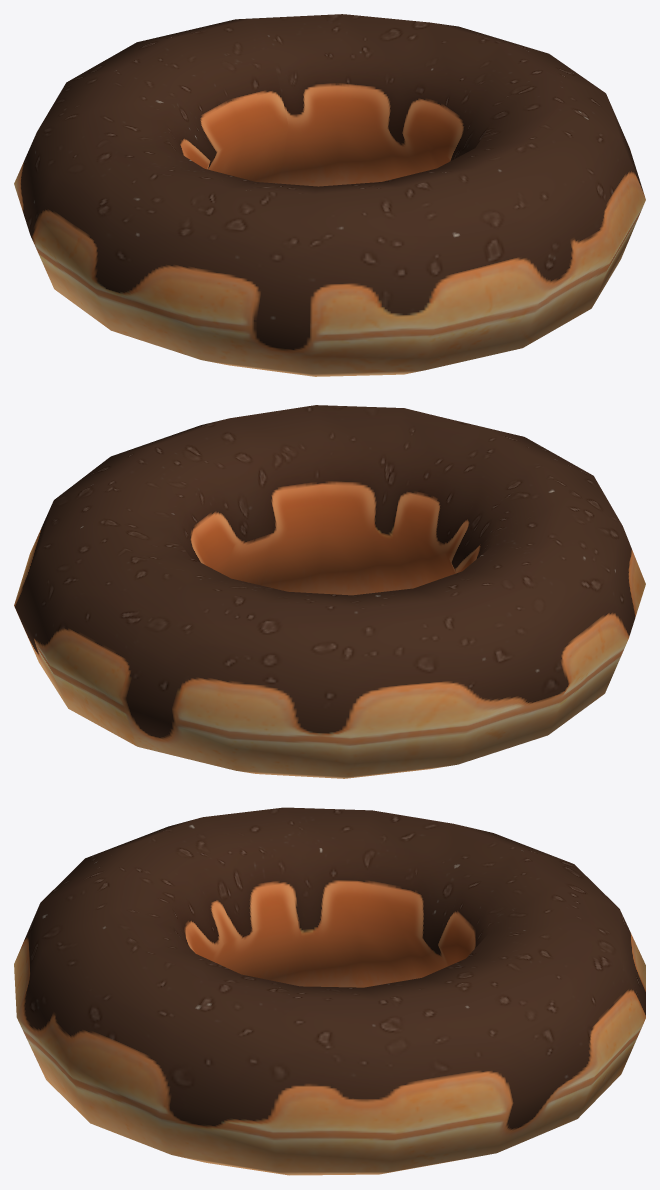
The model's file is BuffetDesserts02_8.FBX.
3 views of the same model, one above another, from view 1: azimuth 30°, elevation 25°; view 2: azimuth 150°, elevation 25°; view 3: azimuth 270°, elevation 25° (orthographic).
Parts seen in each view (by area): view 1: BuffetDesserts02_8; view 2: BuffetDesserts02_8; view 3: BuffetDesserts02_8.
Boxes of the visible parts, x1,y1,x2,y2 form: BuffetDesserts02_8: (14,14,645,376); BuffetDesserts02_8: (14,405,645,778); BuffetDesserts02_8: (14,807,645,1175).
Size of what is drawn, in the model's own units: 0.1586 by 0.0534 by 0.1607.
